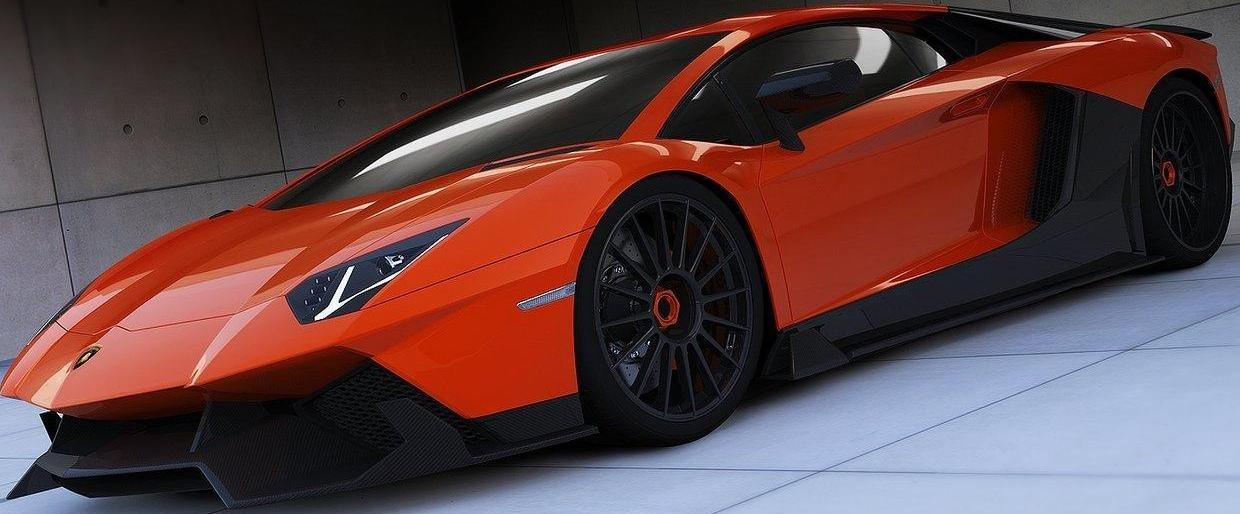front_view: (0, 234, 490, 512)
headlight: (272, 220, 475, 329)
side_glass: (668, 0, 1029, 165)
